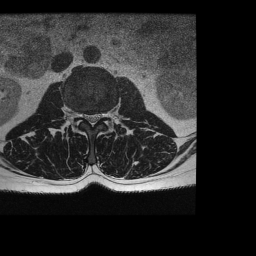CCS_stenosis: (90, 107, 95, 131)
LFS_stenosis: (101, 105, 108, 123)
LLS_normal: (95, 107, 101, 125)
RFS_stenosis: (76, 105, 83, 122)
RLS_stenosis: (83, 107, 90, 125)
